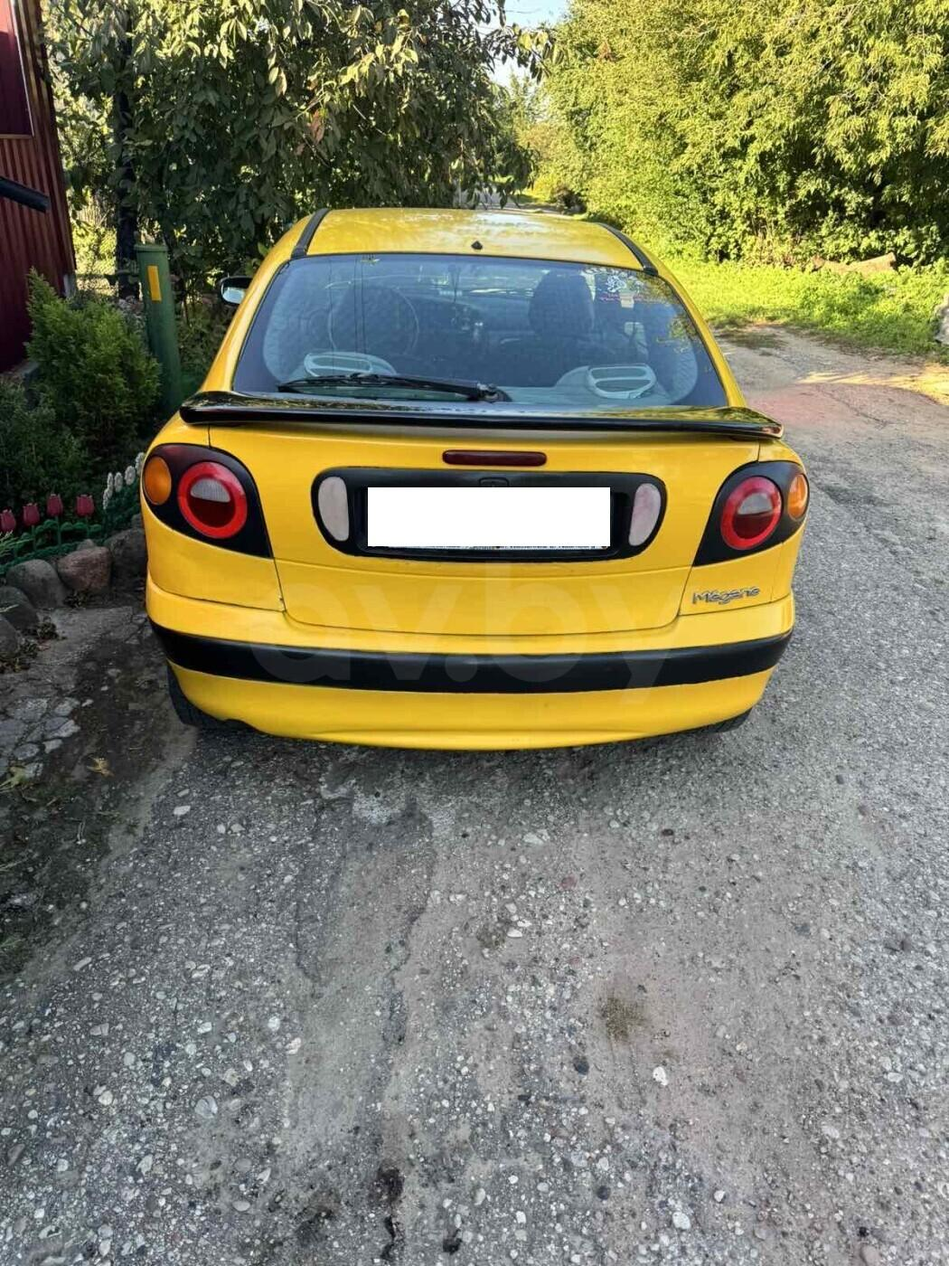Megane_1995-1999: (134, 203, 817, 779)
